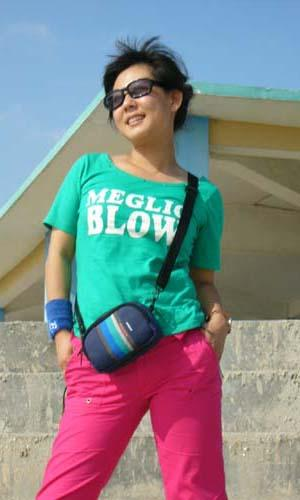no_mask: (93, 39, 197, 149)
